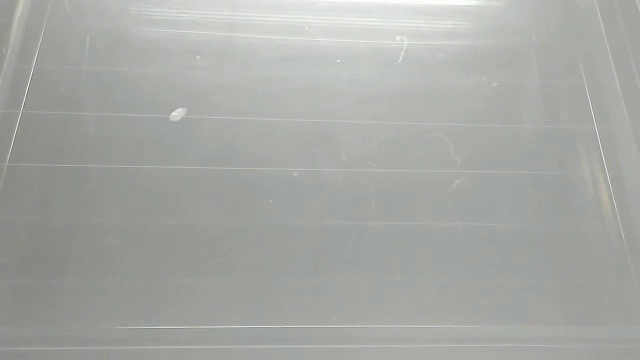alpha: (163, 100, 196, 127)
